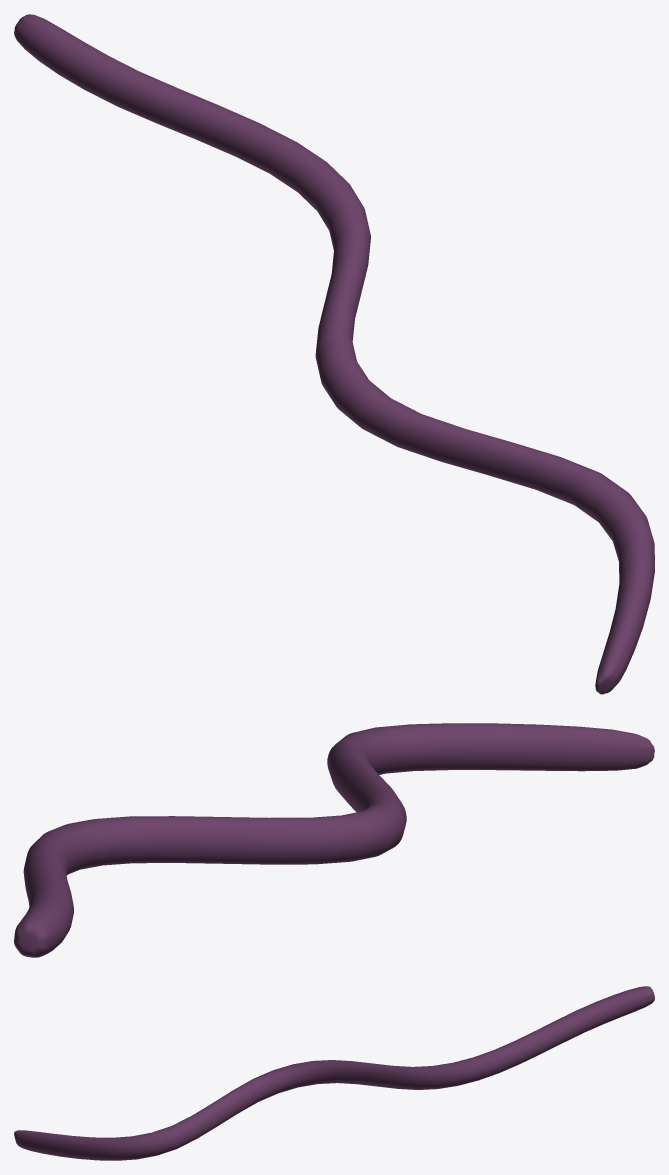
The model's file is frame_35.obj.
3 renders of one model, top to bottom at view 1: azimuth 30°, elevation 25°; view 2: azimuth 150°, elevation 25°; view 3: azimuth 270°, elevation 25°, orthographic. The views are drawn at different scales.
Parts seen in each view (by area): view 1: worm2; view 2: worm2; view 3: worm2.
Part boxes in pixels (x1,y1,x2,y2): worm2: (14,14,654,694); worm2: (14,723,654,957); worm2: (14,986,654,1160).
Bounding box in the file's own units: 313 × 459 × 1729.
